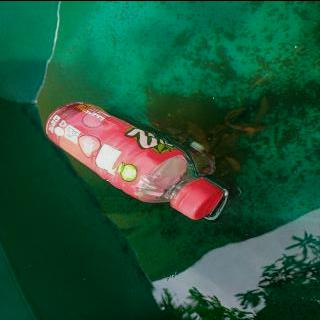bottle: (43, 101, 224, 219)
